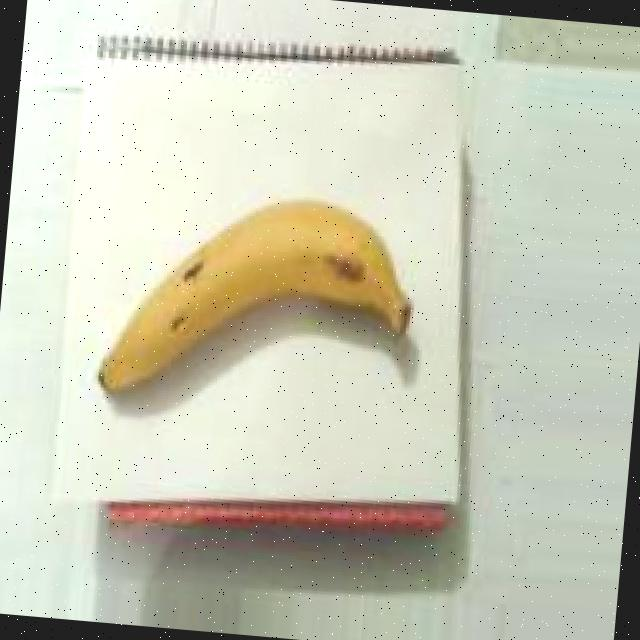banana: (43, 130, 470, 504)
